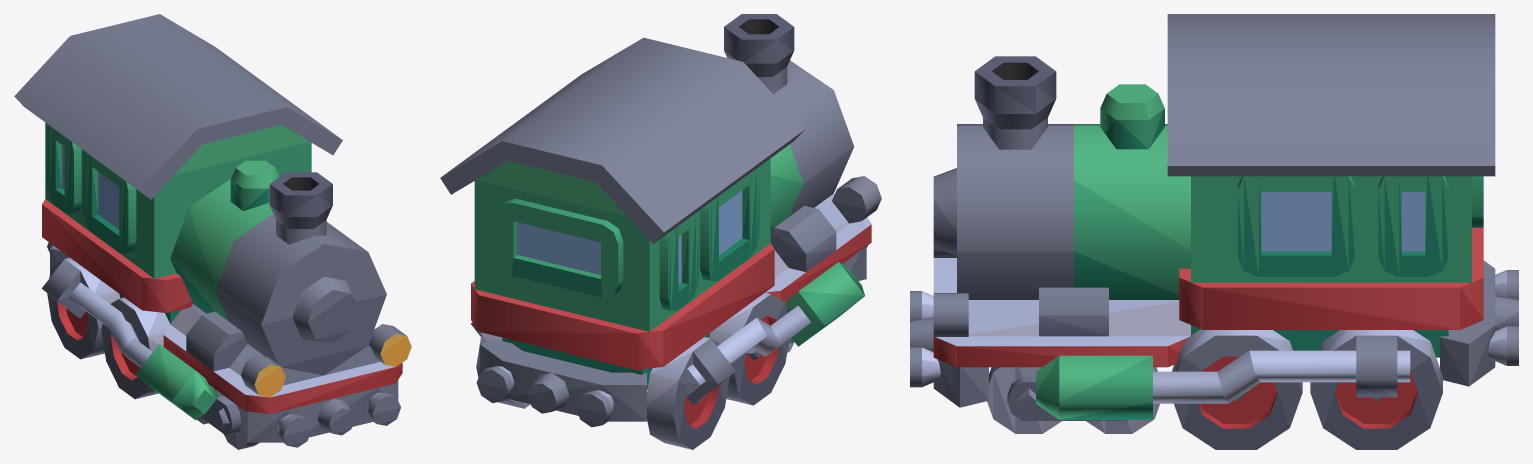
The model's file is trem.glb.
3 views of the same model, side by side, from view 1: azimuth 30°, elevation 25°; view 2: azimuth 150°, elevation 25°; view 3: azimuth 270°, elevation 25° (orthographic). The views are drawn at different scales.
Visible parts, largest first — view 1: train-locomotive-a, wheels-front, wheel; view 2: train-locomotive-a, wheels-front, wheel; view 3: train-locomotive-a, wheels-front, wheel.
Part boxes in pixels (x1,y1,x2,y2): train-locomotive-a: [14, 14, 411, 447]; wheels-front: [47, 259, 259, 449]; wheel: [57, 257, 157, 380]; train-locomotive-a: [440, 14, 881, 427]; wheels-front: [476, 294, 794, 449]; wheel: [650, 292, 778, 428]; train-locomotive-a: [910, 14, 1518, 419]; wheels-front: [987, 329, 1442, 449]; wheel: [1183, 330, 1429, 428].
Bounding box in the file's own units: 1.43 × 1.66 × 2.6.
